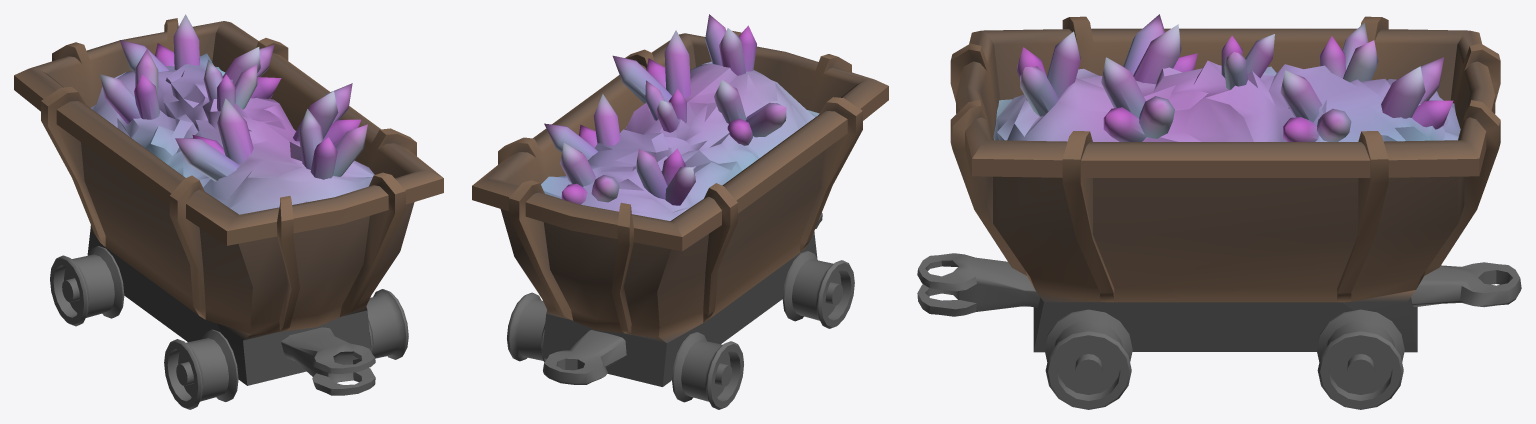
Rendered from mine_cart_crystal.glb.
3 views of the same model, side by side, from view 1: azimuth 30°, elevation 25°; view 2: azimuth 150°, elevation 25°; view 3: azimuth 270°, elevation 25° (orthographic). The views are drawn at different scales.
Visible parts, largest first — view 1: Object_2; view 2: Object_2; view 3: Object_2.
Boxes of the visible parts, <box> form: Object_2: <box>14,14,443,409</box>; Object_2: <box>472,14,888,409</box>; Object_2: <box>917,14,1521,409</box>.
Bounding box in the file's own units: 0.9509 × 1.04 × 1.74.
